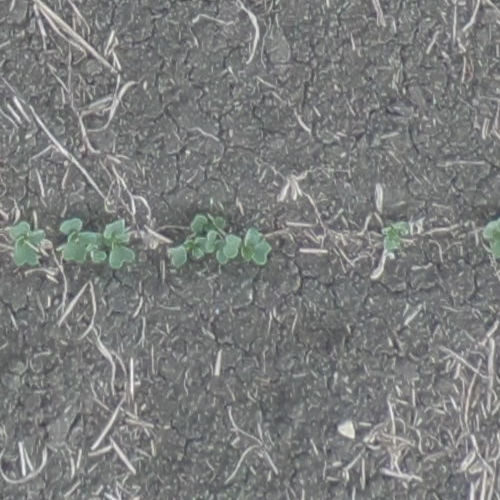clumped: (166, 211, 239, 270), (58, 217, 137, 269)
isolated: (6, 223, 48, 267), (241, 226, 273, 266), (376, 219, 410, 251), (482, 213, 499, 258)
